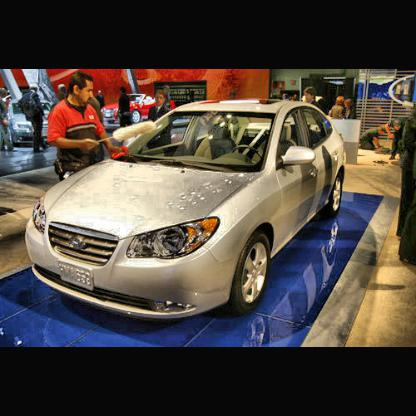Hyundai Elantra Sedan 2007: (26, 99, 348, 324)
